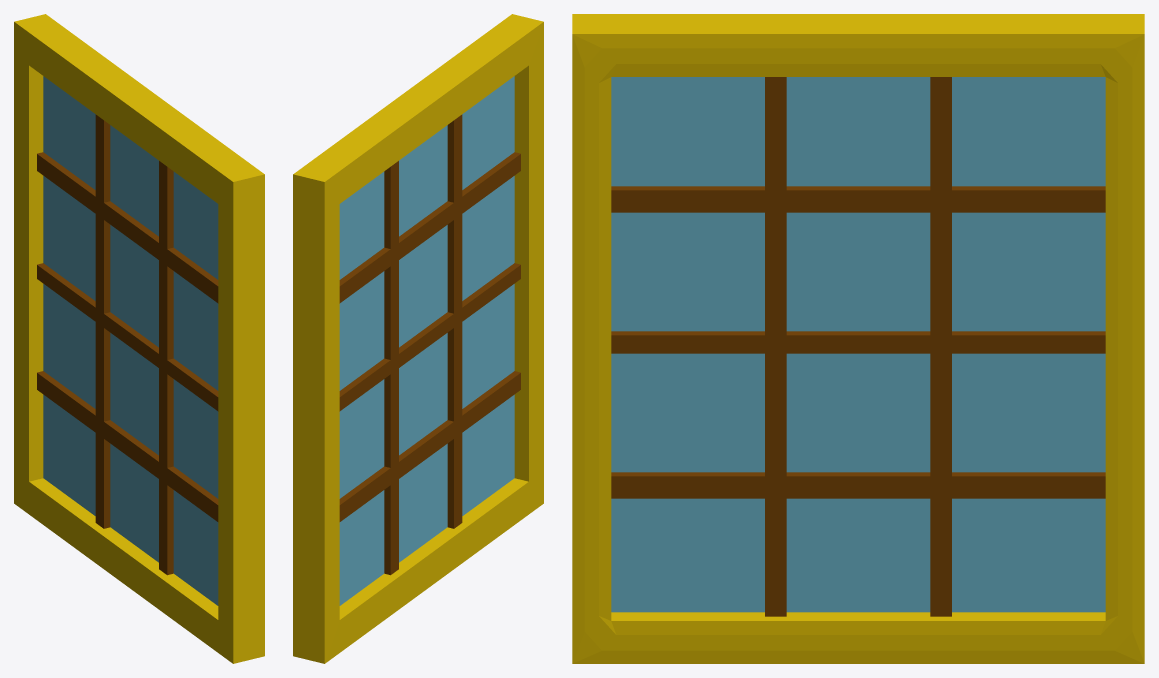
Rendered from window1.fbx.
3 views of the same model, side by side, from view 1: azimuth 30°, elevation 25°; view 2: azimuth 150°, elevation 25°; view 3: azimuth 270°, elevation 25° (orthographic). The views are drawn at different scales.
Parts seen in each view (by area): view 1: Cube, Cube.002, Cube.001; view 2: Cube, Cube.002, Cube.001; view 3: Cube.002, Cube.001, Cube.
Boxes of the visible parts, x1,y1,x2,y2 form: Cube: [14, 14, 264, 663]; Cube.002: [37, 76, 218, 577]; Cube.001: [37, 76, 218, 605]; Cube: [293, 14, 543, 663]; Cube.002: [339, 94, 520, 583]; Cube.001: [339, 76, 520, 605]; Cube.002: [611, 77, 1105, 616]; Cube.001: [611, 77, 1105, 616]; Cube: [572, 14, 1144, 663].
Bounding box in the file's own units: 30 × 428 × 352.
